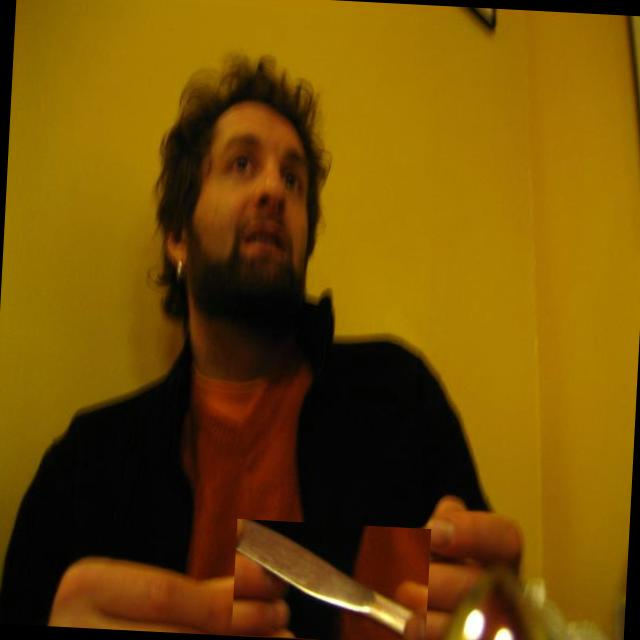Knife: (236, 520, 426, 640)
